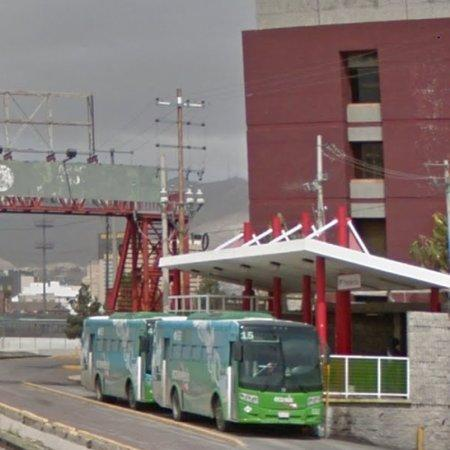buses: (81, 313, 324, 432)
